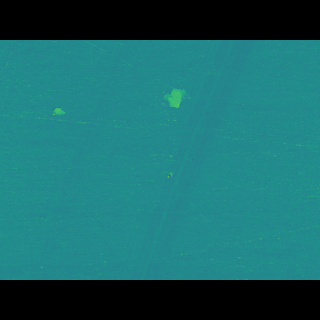Loch: (117, 69, 263, 249), (24, 74, 133, 251), (153, 103, 190, 125), (49, 117, 66, 130)
